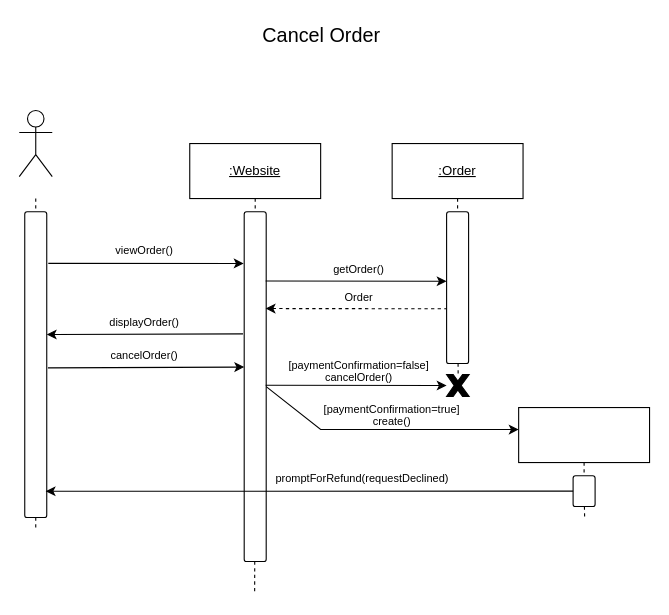
Image size: 669x615. Some labels were removed from this diagram. The shapes that lost their labels are listed below. From the top down, each one's box as (x1, y1, x2, y2) in pixels, then its label:
(18, 109, 52, 177): User
(518, 406, 650, 463): :Notification
